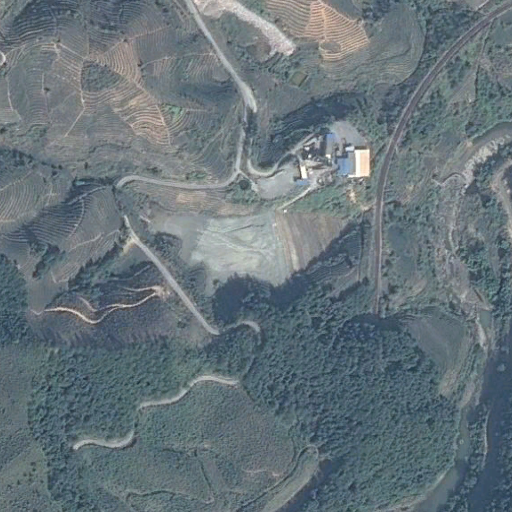tp: (147, 204, 363, 298)
